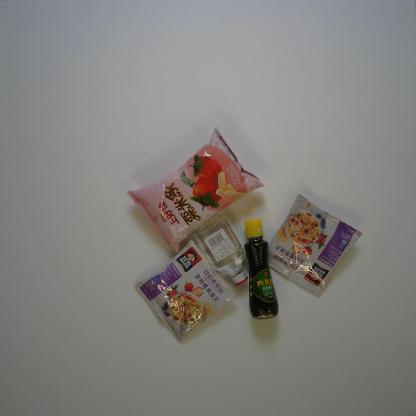Alcohol: (190, 212, 248, 286)
Instant Drink: (133, 238, 240, 342), (268, 193, 364, 297)
Puffed Food: (126, 126, 265, 254)
Seasoner: (243, 218, 279, 320)
